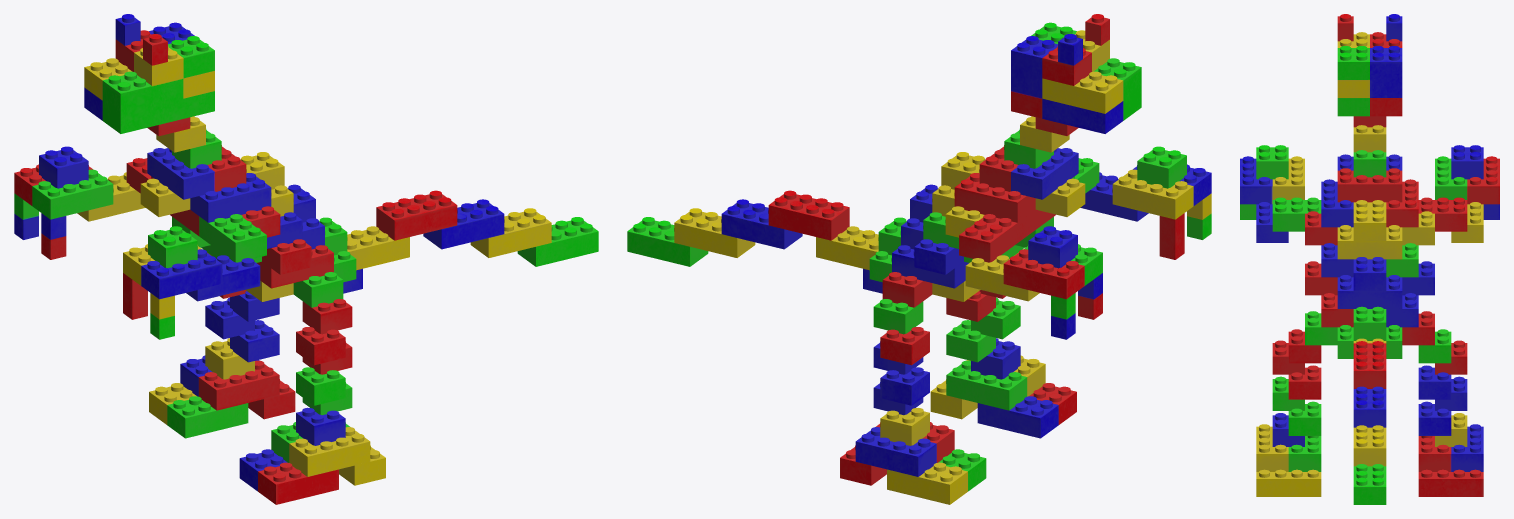
File: Blockasaurus.fbx
The picture shows the model from 3 angles, left to right: view 1: azimuth 30°, elevation 25°; view 2: azimuth 150°, elevation 25°; view 3: azimuth 270°, elevation 25°; orthographic projection. The views are drawn at different scales.
Visible parts, largest first — view 1: Object.224; view 2: Object.224; view 3: Object.224.
Boxes of the visible parts, x1,y1,x2,y2 form: Object.224: (14,14,598,504); Object.224: (627,14,1211,504); Object.224: (1240,14,1499,504).
Bounding box in the file's own units: 2496 × 2130 × 1248.
